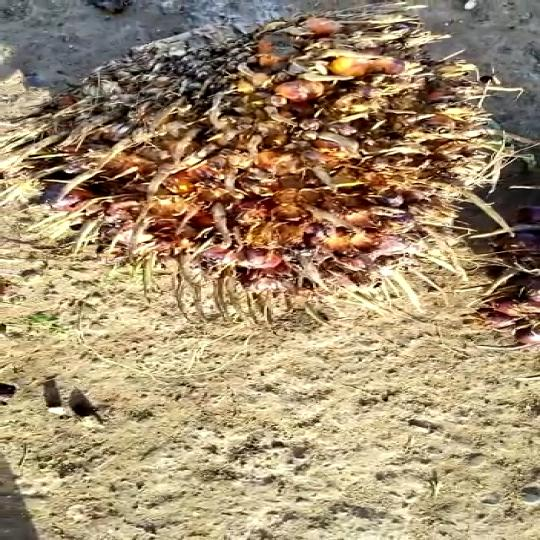terlalu masak: (19, 2, 540, 330)
